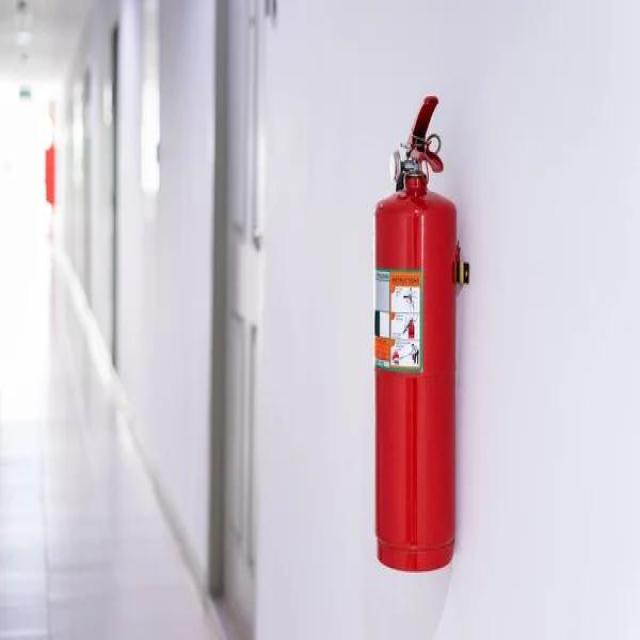fire_extinguisher: (368, 87, 464, 577)
